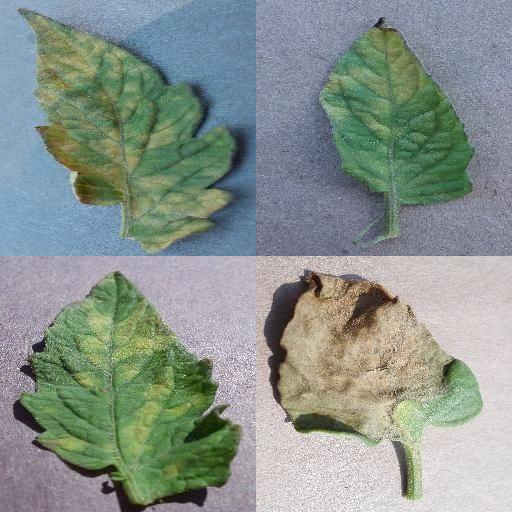Late Blight: (276, 270, 484, 448)
Leaf Mold: (19, 6, 238, 256), (20, 271, 242, 505), (320, 16, 475, 206)
